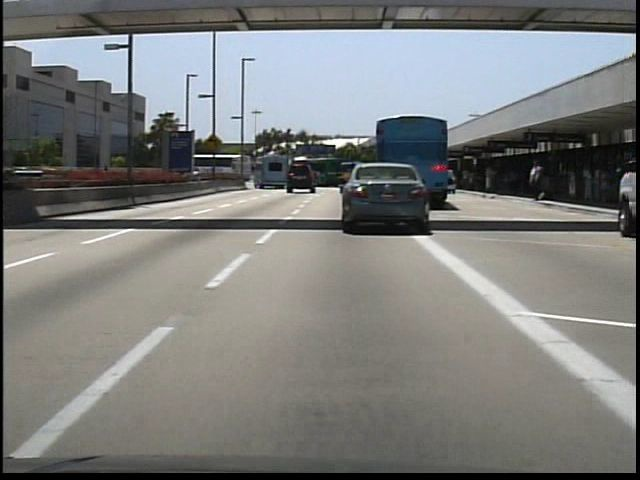person: (527, 157, 545, 203)
